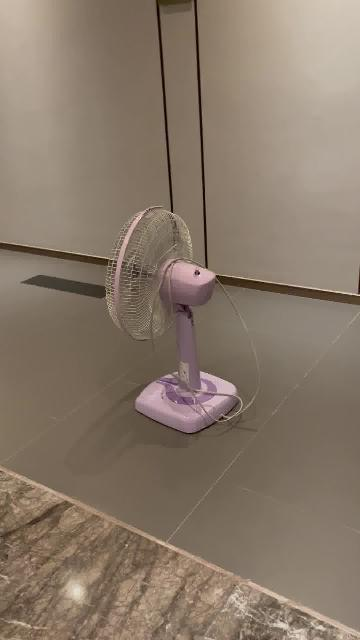Fan: (105, 207, 240, 435)
